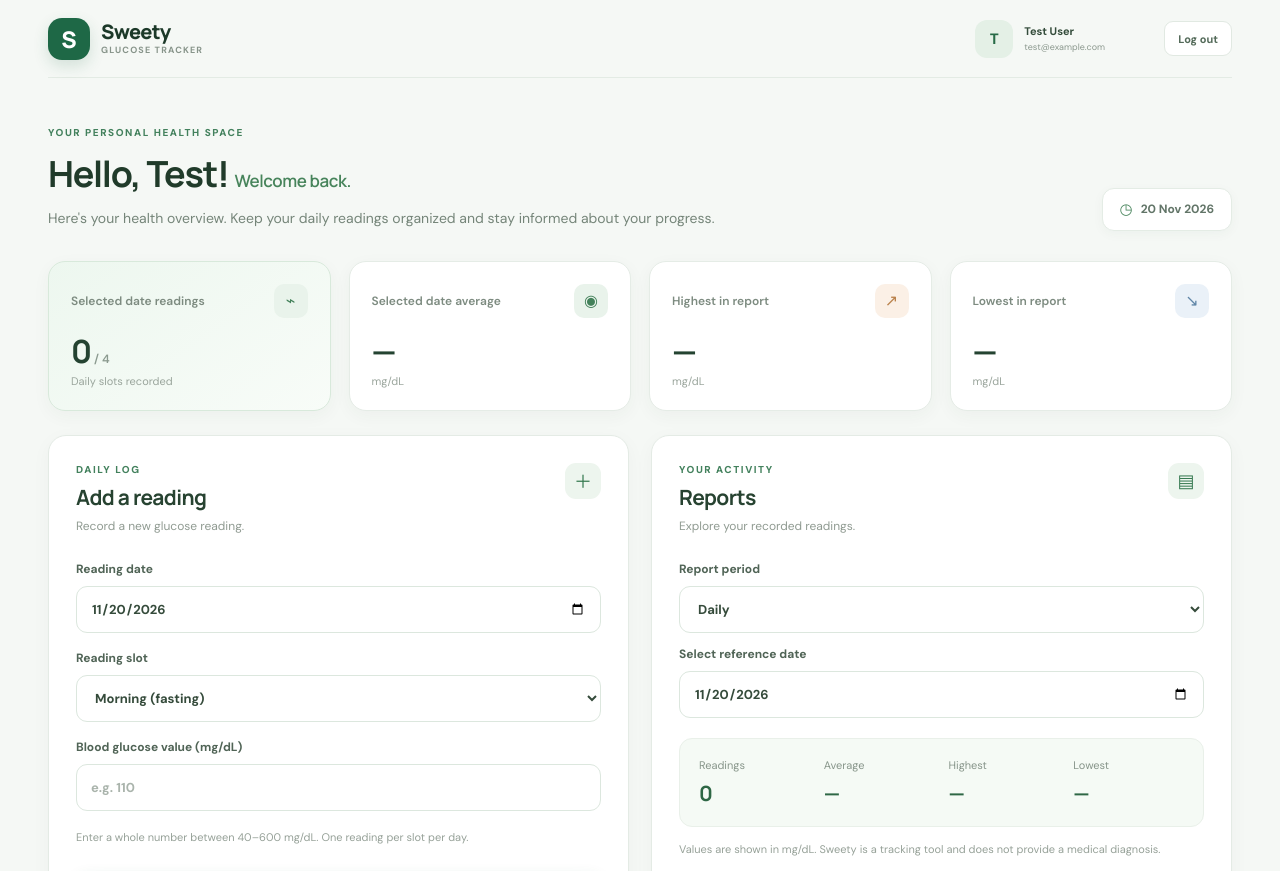
Sweety reading form › logs out and clears saved authentication details
Click the button "Log out": (1198, 38) [1164,21,1232,56]
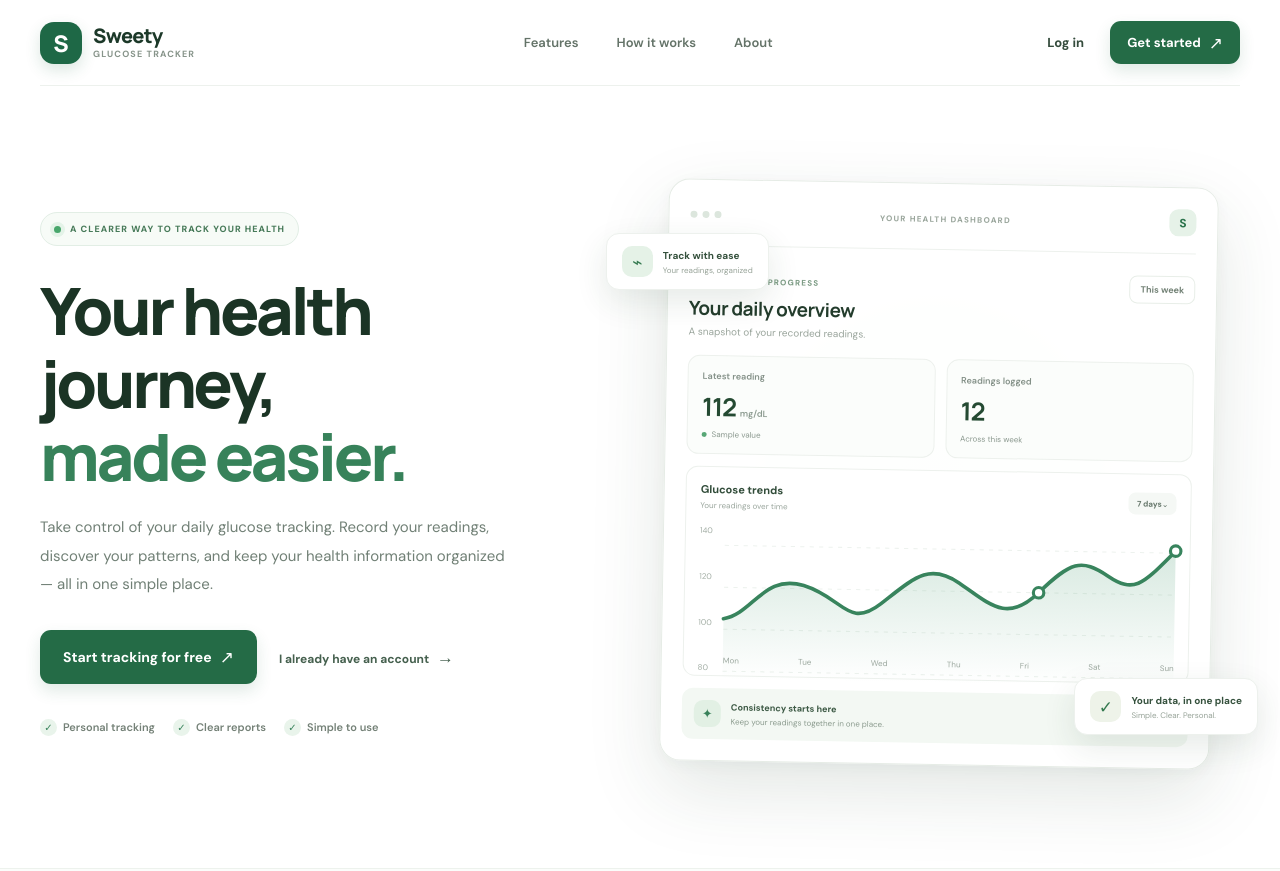
Expected: the button "Log out" is gone
